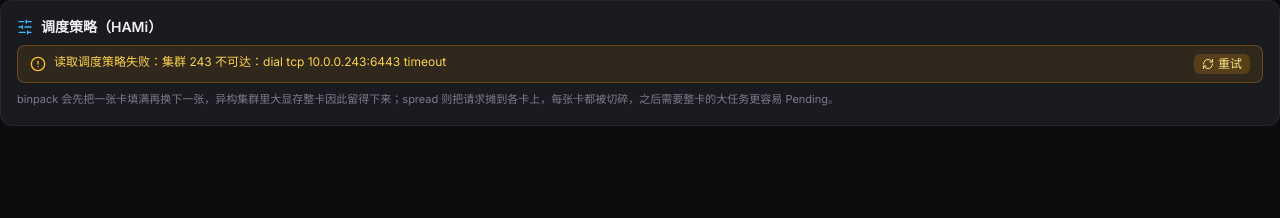
Test: PolicyPanel › 错误态：琥珀提示 + 服务端消息，点重试重新请求
Expected: the element with test id "policy-error" is shown, [17, 45, 1263, 83]
Expected: the element with test id "policy-error" shows "集群 243 不可达", [162, 54, 446, 69]
Click the button "重试".
click(1222, 64)  # box [1194, 54, 1250, 74]
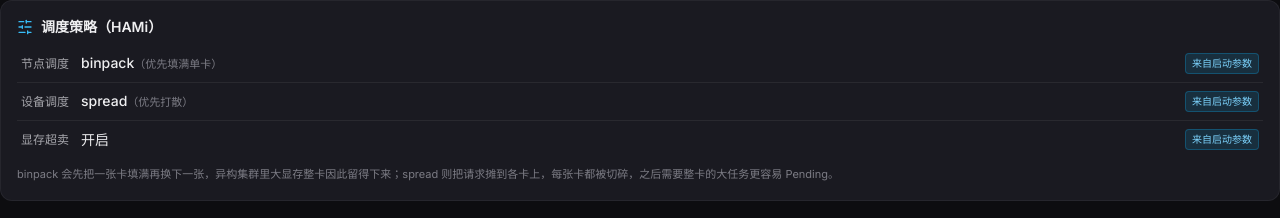
Expected: the element with test id "policy-error" is gone
Expected: the element with test id "policy-row" shows "binpack", [81, 54, 134, 71]
